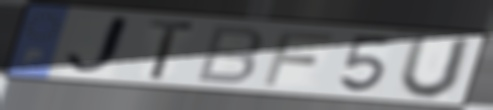5: (337, 33, 396, 94)
B: (192, 23, 266, 87)
F: (259, 28, 337, 88)
J: (62, 13, 135, 79)
T: (145, 17, 200, 82)
U: (395, 33, 477, 102)
